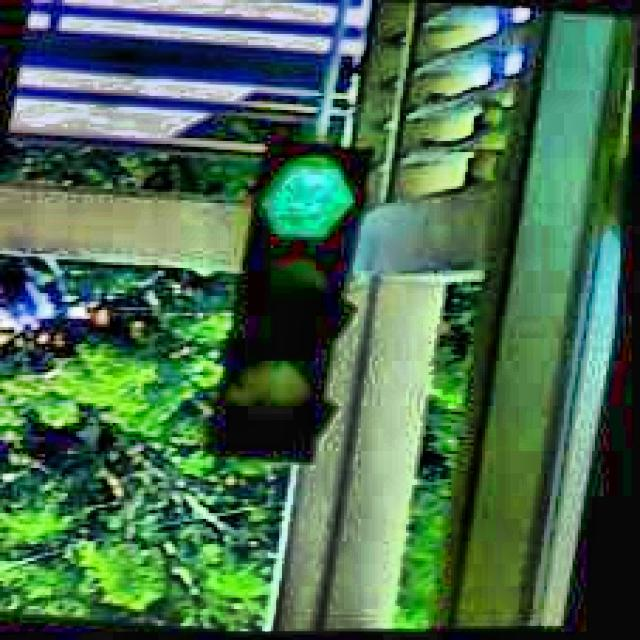green: (210, 140, 376, 470)
